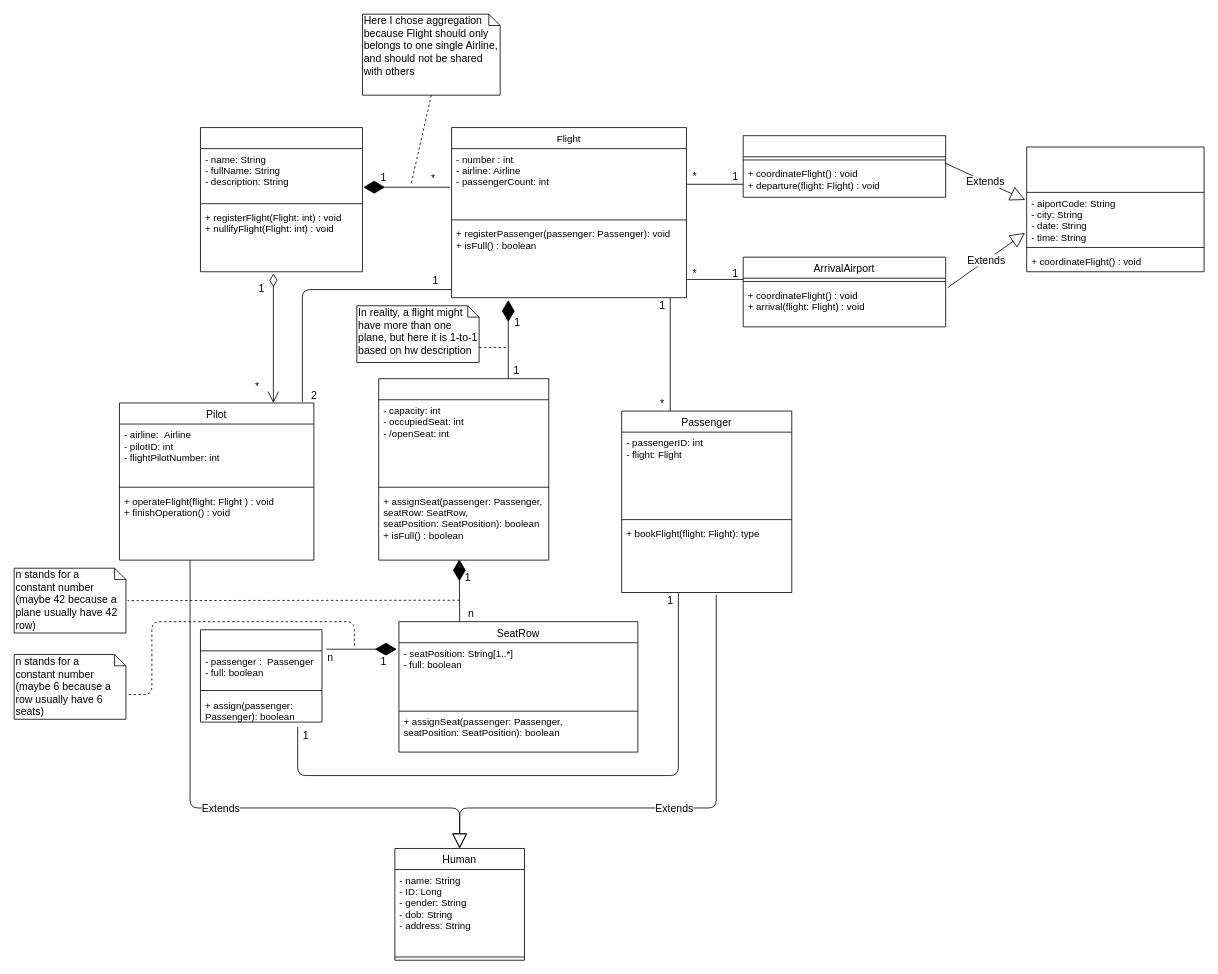
Image size: 1218x974. Some labels were removed from this diagram. Each missing label, with the box of its shape:
Airline: (200, 127, 362, 272)
Airport: (1026, 146, 1204, 272)
DepartureAirport: (742, 135, 946, 197)
Plane: (378, 378, 549, 560)
SeatPosition: (200, 629, 322, 722)
